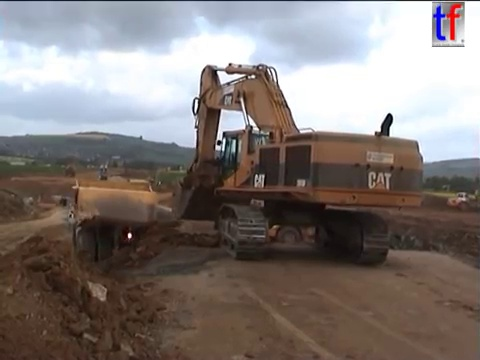excavator: (173, 60, 426, 268)
truck: (59, 175, 177, 265), (262, 181, 358, 254), (445, 191, 480, 212), (63, 163, 76, 178)
worker: (67, 208, 75, 228)
